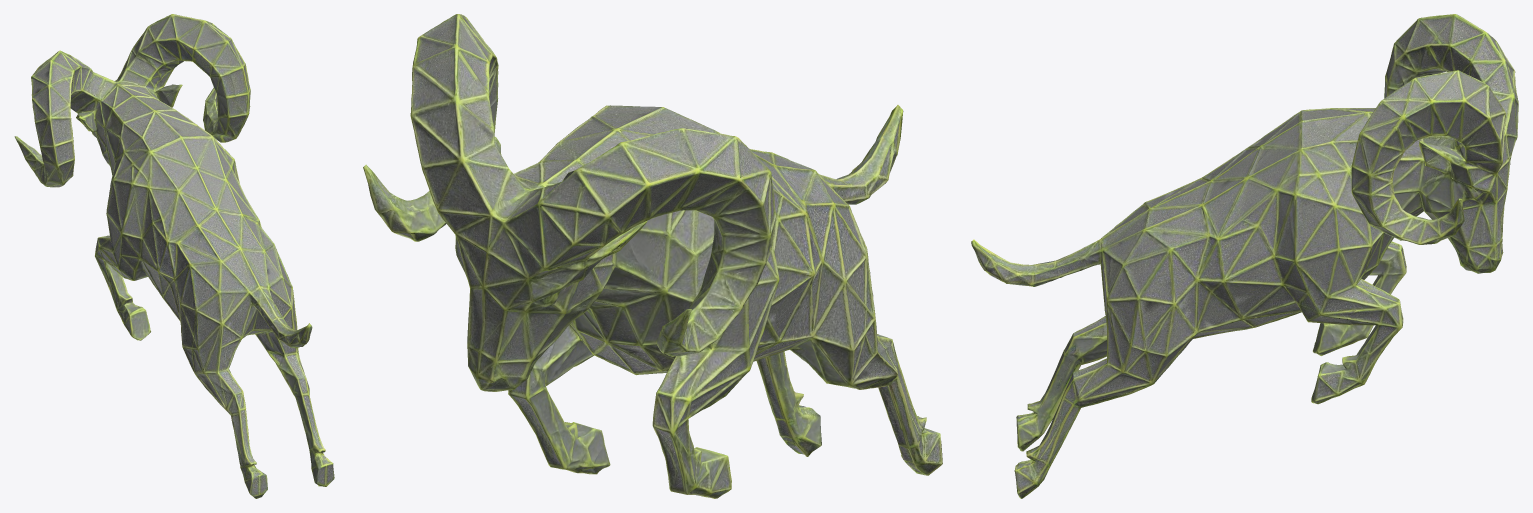
File: neon_ram.glb
3 renders of one model, left to right at view 1: azimuth 30°, elevation 25°; view 2: azimuth 150°, elevation 25°; view 3: azimuth 270°, elevation 25°, orthographic. The views are drawn at different scales.
Visible parts, largest first — view 1: tripo_node_5ca8546f; view 2: tripo_node_5ca8546f; view 3: tripo_node_5ca8546f.
Part boxes in pixels (x1=…): tripo_node_5ca8546f: x1=14, y1=14, x2=334, y2=498; tripo_node_5ca8546f: x1=363, y1=14, x2=942, y2=498; tripo_node_5ca8546f: x1=971, y1=14, x2=1518, y2=498.
Bounding box in the file's own units: 0.5471 × 0.8901 × 1.
1 material, 1 textured.
